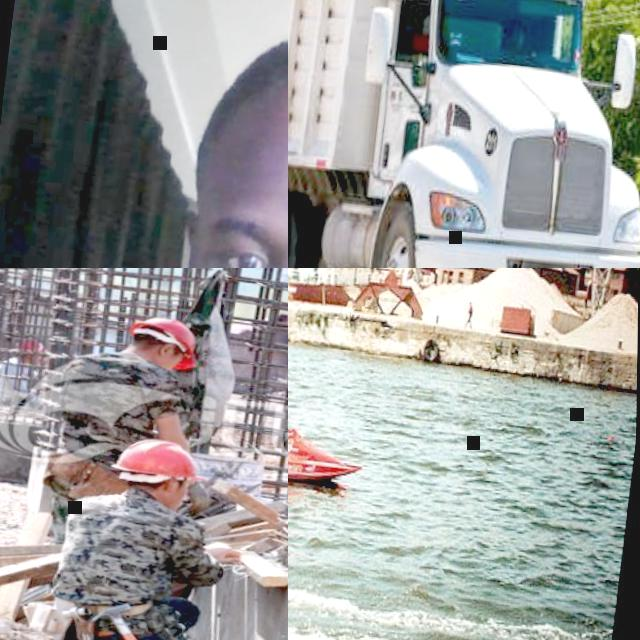helmet: (115, 432, 216, 490), (124, 314, 204, 376), (10, 334, 52, 356)
machinery: (288, 0, 640, 268)
no_helmet: (198, 23, 288, 177)
no_mask: (152, 352, 182, 373), (168, 489, 188, 512)
no_vest: (50, 490, 202, 632), (40, 344, 176, 474), (0, 362, 40, 409), (465, 301, 477, 330), (470, 306, 474, 318)
person: (0, 4, 288, 268), (33, 431, 274, 640), (39, 303, 207, 539), (0, 333, 55, 419)
